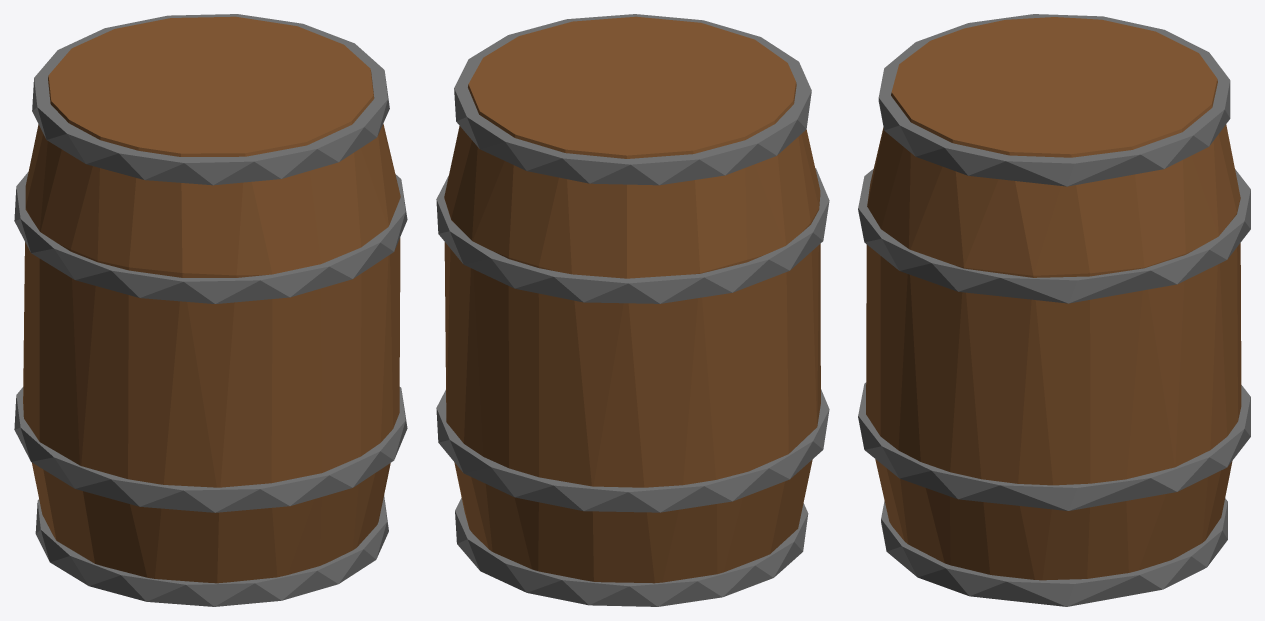
Rendered from tynnyri.fbx.
The picture shows the model from 3 angles, left to right: view 1: azimuth 30°, elevation 25°; view 2: azimuth 150°, elevation 25°; view 3: azimuth 270°, elevation 25°; orthographic projection.
Parts seen in each view (by area): view 1: Cylinder, Cylinder.003, Cylinder.002, Cylinder.001, Cylinder.004; view 2: Cylinder, Cylinder.003, Cylinder.002, Cylinder.001, Cylinder.004; view 3: Cylinder, Cylinder.003, Cylinder.002, Cylinder.001, Cylinder.004.
Part boxes in pixels (x1,y1,x2,y2): Cylinder: [23, 16, 400, 583]; Cylinder.003: [32, 14, 389, 185]; Cylinder.002: [14, 172, 407, 303]; Cylinder.001: [14, 387, 407, 512]; Cylinder.004: [35, 495, 388, 606]; Cylinder: [444, 16, 820, 583]; Cylinder.003: [454, 14, 811, 185]; Cylinder.002: [436, 168, 829, 303]; Cylinder.001: [436, 389, 829, 512]; Cylinder.004: [455, 498, 808, 606]; Cylinder: [866, 17, 1241, 580]; Cylinder.003: [878, 14, 1230, 186]; Cylinder.002: [858, 169, 1250, 303]; Cylinder.001: [858, 382, 1250, 510]; Cylinder.004: [881, 498, 1227, 606].
Bounding box in the file's own units: 241 × 304 × 241.
